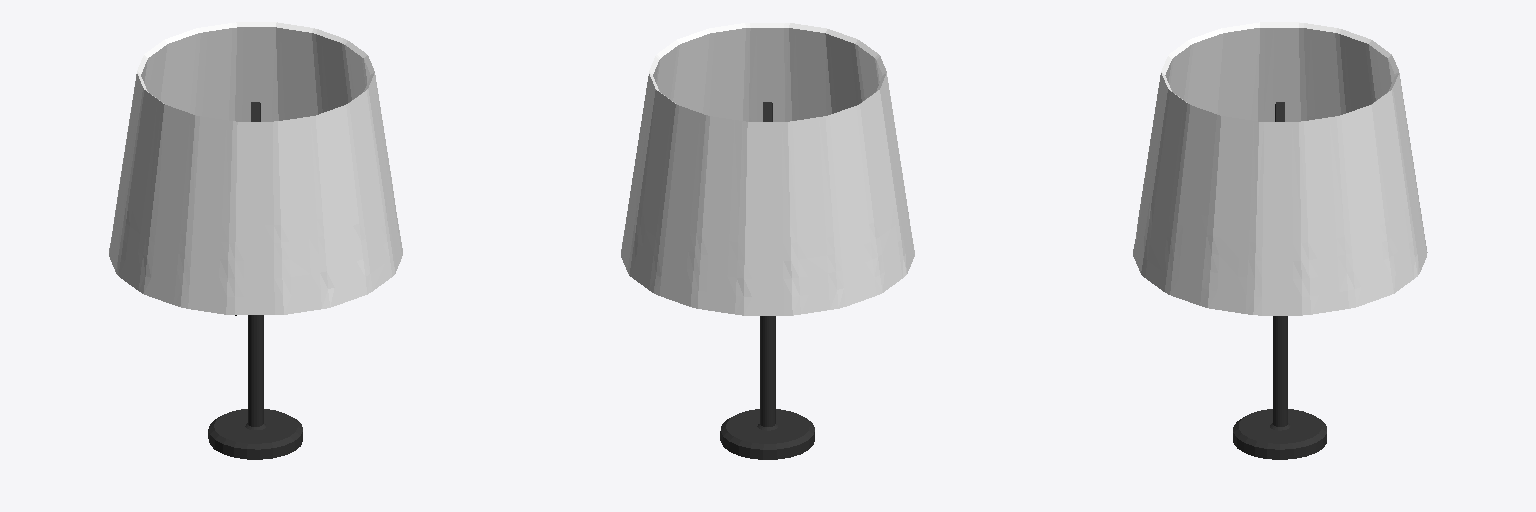
File: lampObj.obj
3 views of the same model, side by side, from view 1: azimuth 30°, elevation 25°; view 2: azimuth 150°, elevation 25°; view 3: azimuth 270°, elevation 25° (orthographic).
Parts seen in each view (by area): view 1: nurbsToPoly1, pCylinder1; view 2: nurbsToPoly1, pCylinder1; view 3: nurbsToPoly1, pCylinder1.
Boxes of the visible parts, box(x1,y1,x2,y2) form: nurbsToPoly1: box(109, 22, 402, 314); pCylinder1: box(208, 315, 302, 459); nurbsToPoly1: box(621, 23, 914, 315); pCylinder1: box(720, 316, 814, 459); nurbsToPoly1: box(1133, 22, 1427, 315); pCylinder1: box(1233, 316, 1326, 459).
Bounding box in the file's own units: 14.59 × 20.34 × 14.79.